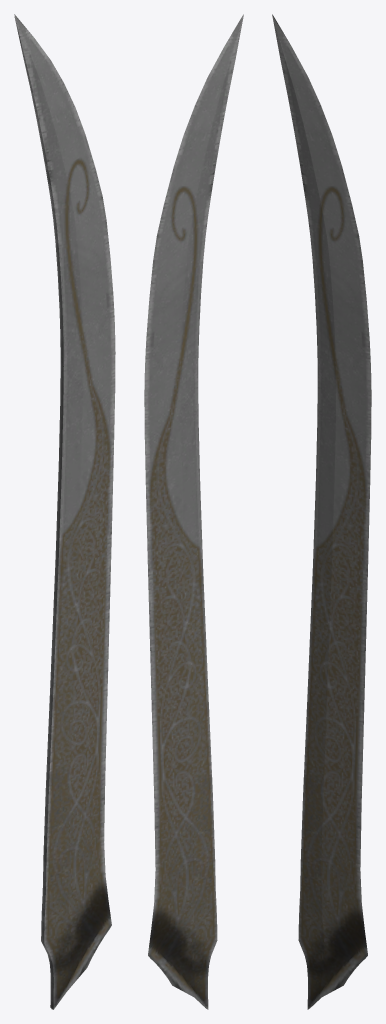
The model's file is wm_legolas_sword_blade.fbx.
3 views of the same model, side by side, from view 1: azimuth 30°, elevation 25°; view 2: azimuth 210°, elevation 25°; view 3: azimuth 330°, elevation 25° (orthographic).
Parts seen in each view (by area): view 1: wm_legolas_sword_blade; view 2: wm_legolas_sword_blade; view 3: wm_legolas_sword_blade.
Part boxes in pixels (x1,y1,x2,y2): wm_legolas_sword_blade: [14, 14, 115, 1009]; wm_legolas_sword_blade: [144, 14, 243, 1009]; wm_legolas_sword_blade: [272, 14, 371, 1009].
Bounding box in the file's own units: 0.0639 × 0.00428 × 0.6073.
1 material, 1 textured.
